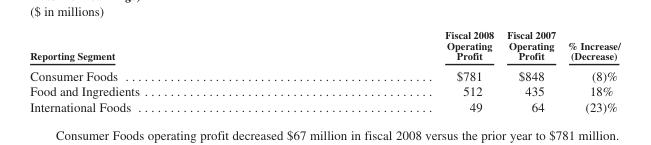table: (29, 28, 619, 113)
table column: (29, 28, 291, 113), (291, 28, 499, 113), (499, 28, 560, 113), (560, 28, 619, 113)
table column header: (29, 28, 619, 64)
table row: (29, 28, 619, 64), (29, 64, 619, 83), (29, 83, 619, 98), (29, 98, 619, 113)
